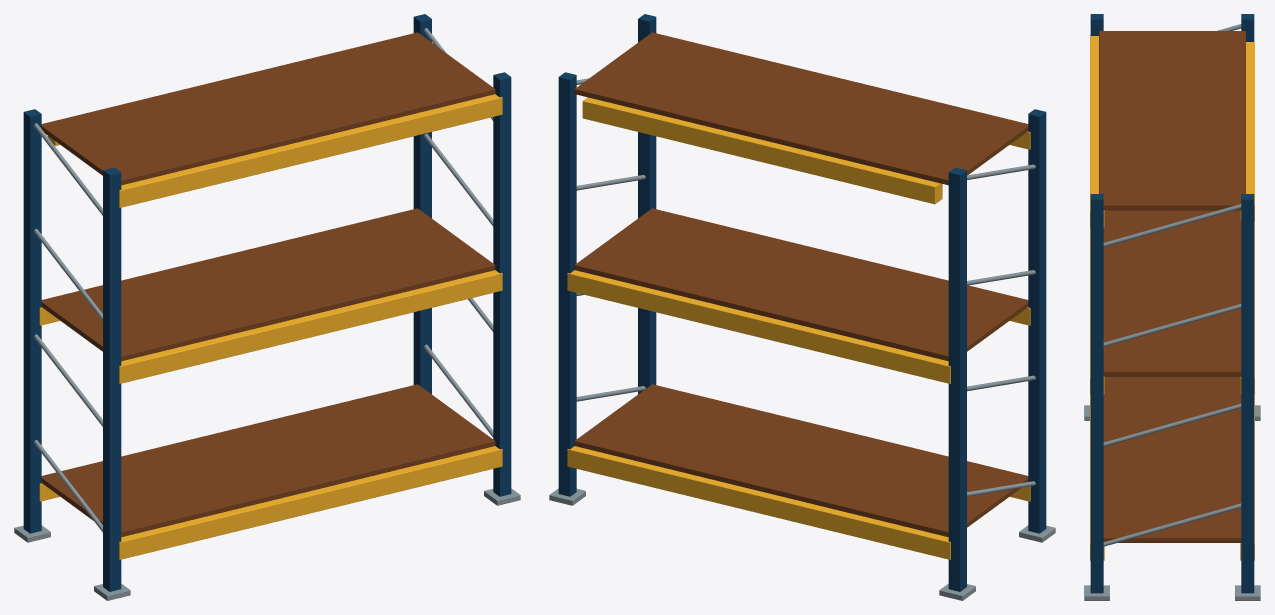
Rendered from edited.glb.
3 renders of one model, left to right at view 1: azimuth 30°, elevation 25°; view 2: azimuth 150°, elevation 25°; view 3: azimuth 270°, elevation 25°, orthographic. The views are drawn at different scales.
Parts seen in each view (by area): view 1: SHELF_Deck.002, SHELF_Deck.001, SHELF_Deck, BEAM.005, BEAM.001, BEAM.003, UPRIGHT, UPRIGHT.001, UPRIGHT.002, UPRIGHT.003; view 2: SHELF_Deck.002, SHELF_Deck.001, SHELF_Deck, BEAM.002, BEAM.004, BEAM, UPRIGHT.001, UPRIGHT, UPRIGHT.003, UPRIGHT.002; view 3: SHELF_Deck.002, SHELF_Deck.001, SHELF_Deck, UPRIGHT.002, UPRIGHT.003, BEAM.005, BEAM, BRACE.005, BRACE.006, BRACE, BRACE.007, UPRIGHT.001 (+3 smaller).
Boxes of the visible parts, x1=… form: SHELF_Deck.002: x1=41, y1=32, x2=495, y2=185; SHELF_Deck.001: x1=41, y1=208, x2=495, y2=361; SHELF_Deck: x1=41, y1=384, x2=495, y2=536; BEAM.005: x1=119, y1=94, x2=502, y2=207; BEAM.001: x1=119, y1=446, x2=502, y2=559; BEAM.003: x1=119, y1=270, x2=502, y2=383; UPRIGHT: x1=103, y1=167, x2=121, y2=591; UPRIGHT.001: x1=23, y1=109, x2=41, y2=533; UPRIGHT.002: x1=493, y1=72, x2=511, y2=496; UPRIGHT.003: x1=413, y1=14, x2=431, y2=394; SHELF_Deck.002: x1=574, y1=32, x2=1028, y2=185; SHELF_Deck.001: x1=574, y1=208, x2=1028, y2=361; SHELF_Deck: x1=574, y1=384, x2=1028, y2=536; BEAM.002: x1=567, y1=446, x2=950, y2=559; BEAM.004: x1=567, y1=270, x2=950, y2=383; BEAM: x1=582, y1=97, x2=942, y2=204; UPRIGHT.001: x1=948, y1=167, x2=966, y2=591; UPRIGHT: x1=1028, y1=109, x2=1046, y2=533; UPRIGHT.003: x1=558, y1=72, x2=576, y2=496; UPRIGHT.002: x1=638, y1=14, x2=656, y2=394; SHELF_Deck.002: x1=1099, y1=31, x2=1245, y2=210; SHELF_Deck.001: x1=1103, y1=210, x2=1241, y2=376; SHELF_Deck: x1=1103, y1=376, x2=1241, y2=542; UPRIGHT.002: x1=1090, y1=194, x2=1103, y2=593; UPRIGHT.003: x1=1241, y1=194, x2=1254, y2=593; BEAM.005: x1=1090, y1=35, x2=1104, y2=227; BEAM: x1=1240, y1=42, x2=1254, y2=220; BRACE.005: x1=1103, y1=503, x2=1241, y2=546; BRACE.006: x1=1103, y1=403, x2=1241, y2=446; BRACE: x1=1103, y1=204, x2=1241, y2=247; BRACE.007: x1=1103, y1=304, x2=1241, y2=346; UPRIGHT.001: x1=1241, y1=14, x2=1254, y2=41.
Size of the model in its own units: 2.46 by 2.4 by 0.96.
